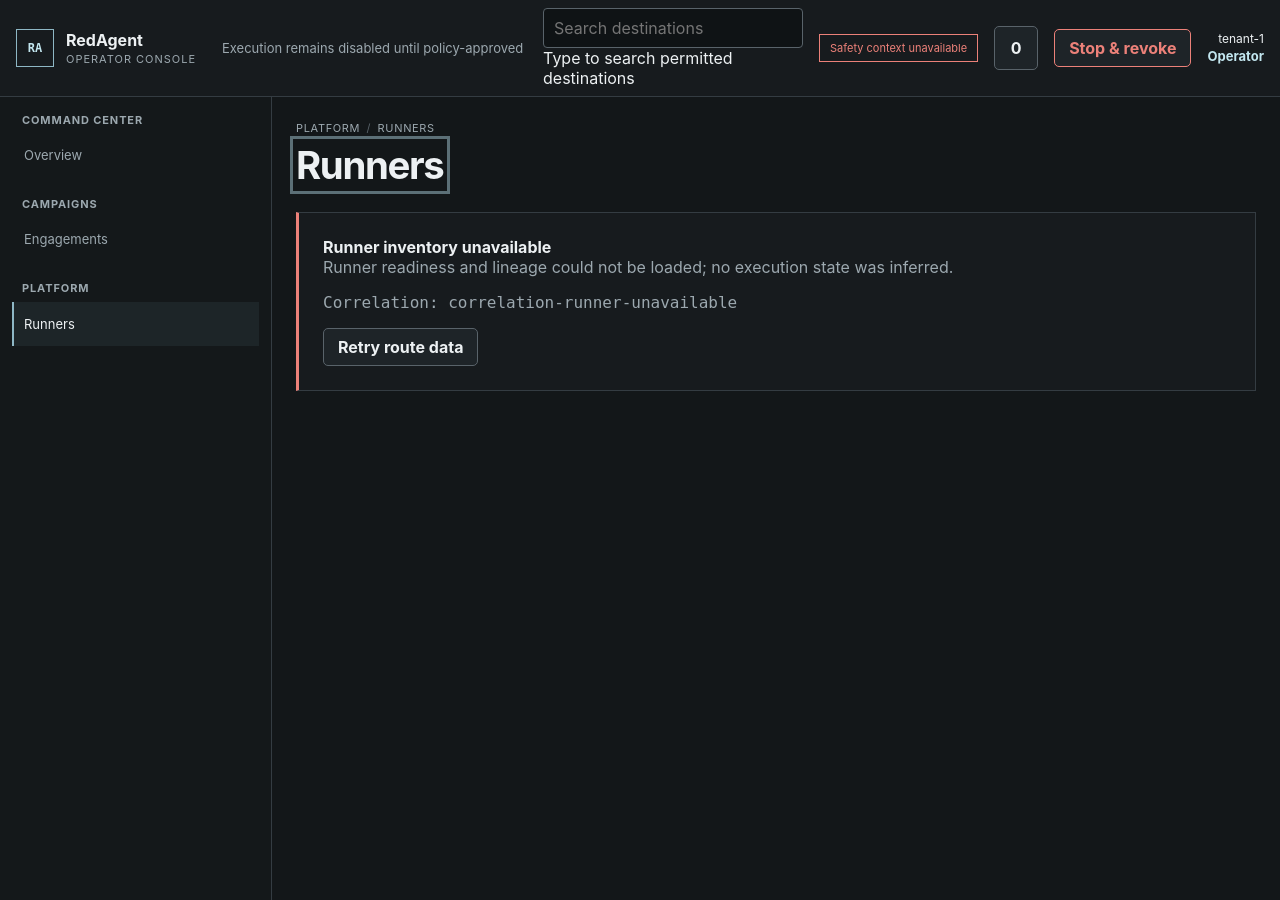
Test: renders runner-inventory correlation evidence and retries
Check: the message "Runner inventory unavailable" is shown, box [296,212,1256,391]
Check: the text "Correlation: correlation-runner-unavailable" is shown, box [323,293,737,312]
Step 1. Click the button "Retry route data" → (401, 347), box [323,328,478,366]
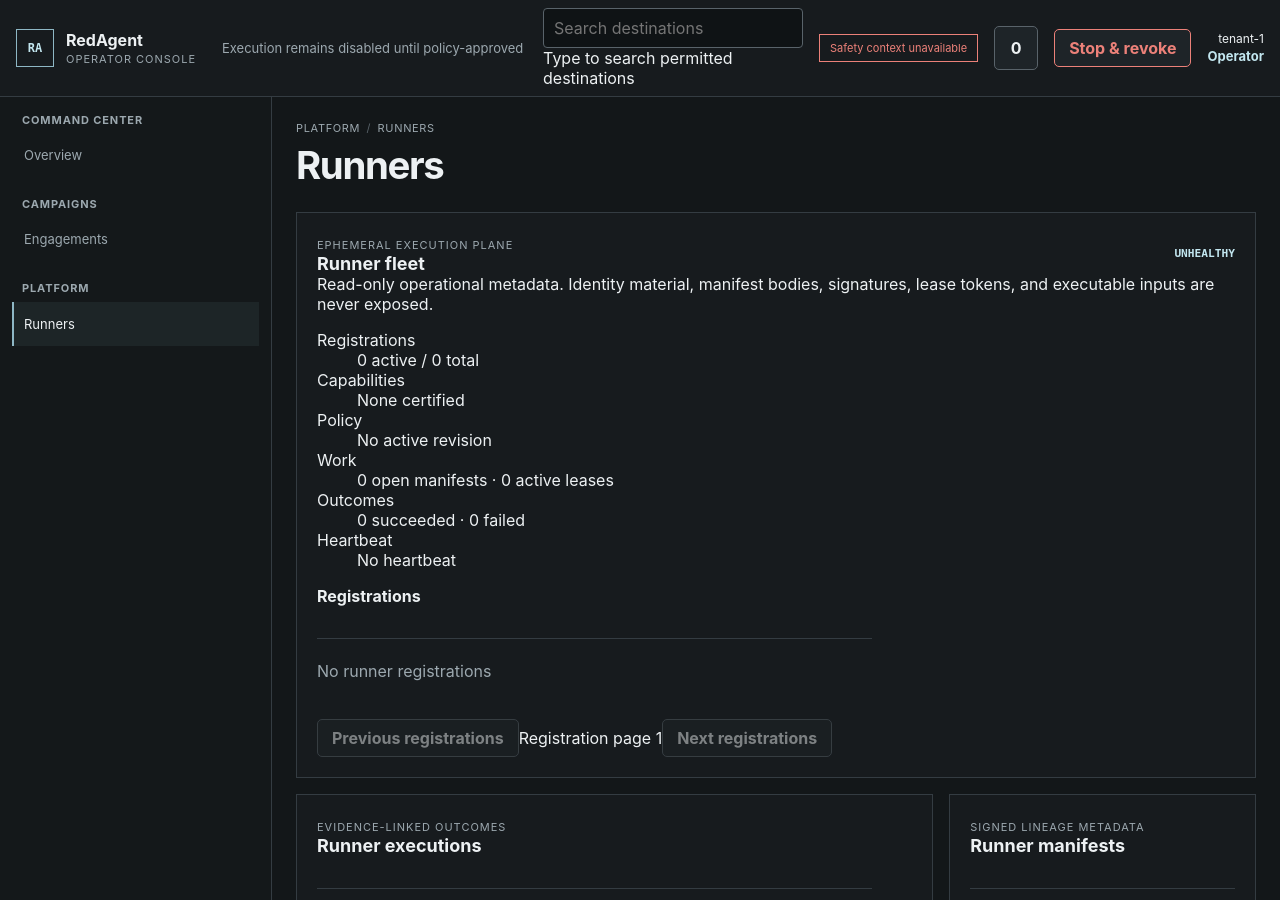
Check: the heading "Runner fleet" is shown, box [317,253,425,274]
Check: the text "Unhealthy" is shown, box [1174,248,1235,259]
